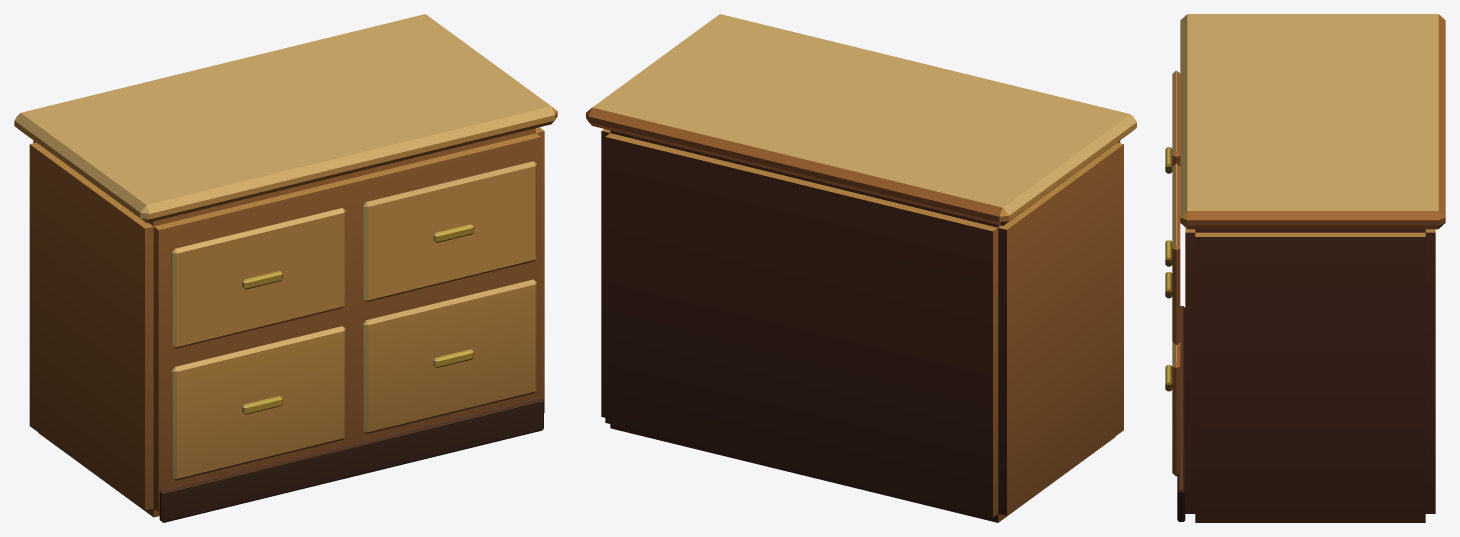
File: cabinet_wood.glb
3 renders of one model, left to right at view 1: azimuth 30°, elevation 25°; view 2: azimuth 150°, elevation 25°; view 3: azimuth 270°, elevation 25°, orthographic.
Visible parts, largest first — view 1: cabinet_wood; view 2: cabinet_wood; view 3: cabinet_wood.
Part boxes in pixels (box(x1,y1,x2,y2)): cabinet_wood: box(14, 14, 557, 522); cabinet_wood: box(586, 14, 1136, 522); cabinet_wood: box(1165, 14, 1445, 522).
Bounding box in the file's own units: 0.96 × 0.7 × 0.56.
